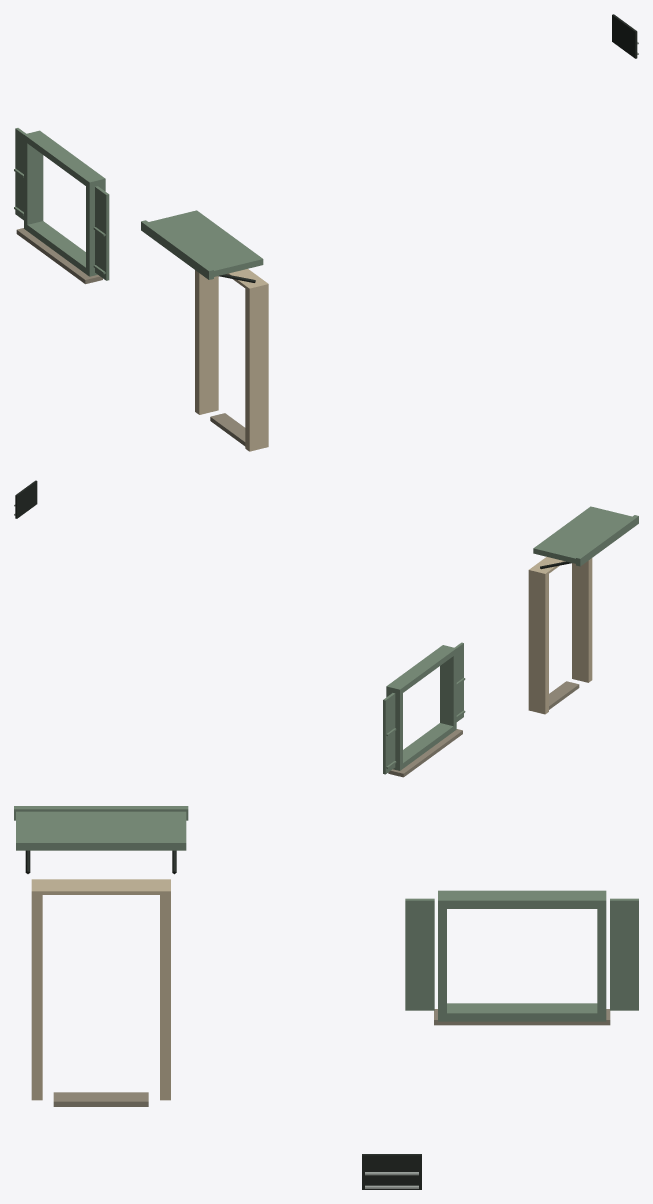
The model's file is SM_Homes_H02_Fixtures_LOD2.fbx.
3 renders of one model, top to bottom at view 1: azimuth 30°, elevation 25°; view 2: azimuth 150°, elevation 25°; view 3: azimuth 270°, elevation 25°, orthographic. The views are drawn at different scales.
Visible parts, largest first — view 1: SM_Homes_H02_Fixtures_LOD2; view 2: SM_Homes_H02_Fixtures_LOD2; view 3: SM_Homes_H02_Fixtures_LOD2.
Part boxes in pixels (x1=…): SM_Homes_H02_Fixtures_LOD2: x1=14, y1=14, x2=638, y2=451; SM_Homes_H02_Fixtures_LOD2: x1=14, y1=480, x2=638, y2=777; SM_Homes_H02_Fixtures_LOD2: x1=14, y1=806, x2=638, y2=1189.
Bounding box in the file's own units: 8.37 × 6.23 × 2.88.
